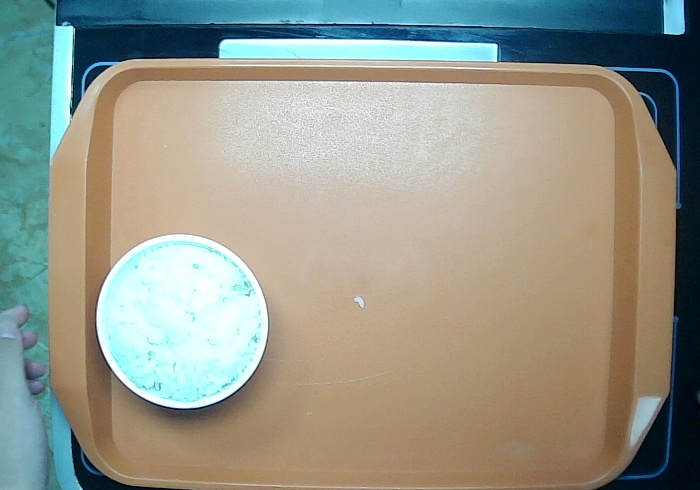HZYJPL-Fan_Wan: (82, 229, 286, 422)
